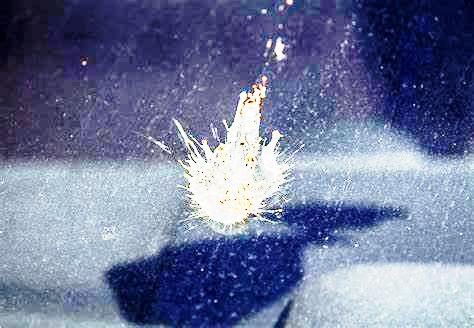Bird Poop: (175, 82, 293, 227), (274, 38, 285, 60)
